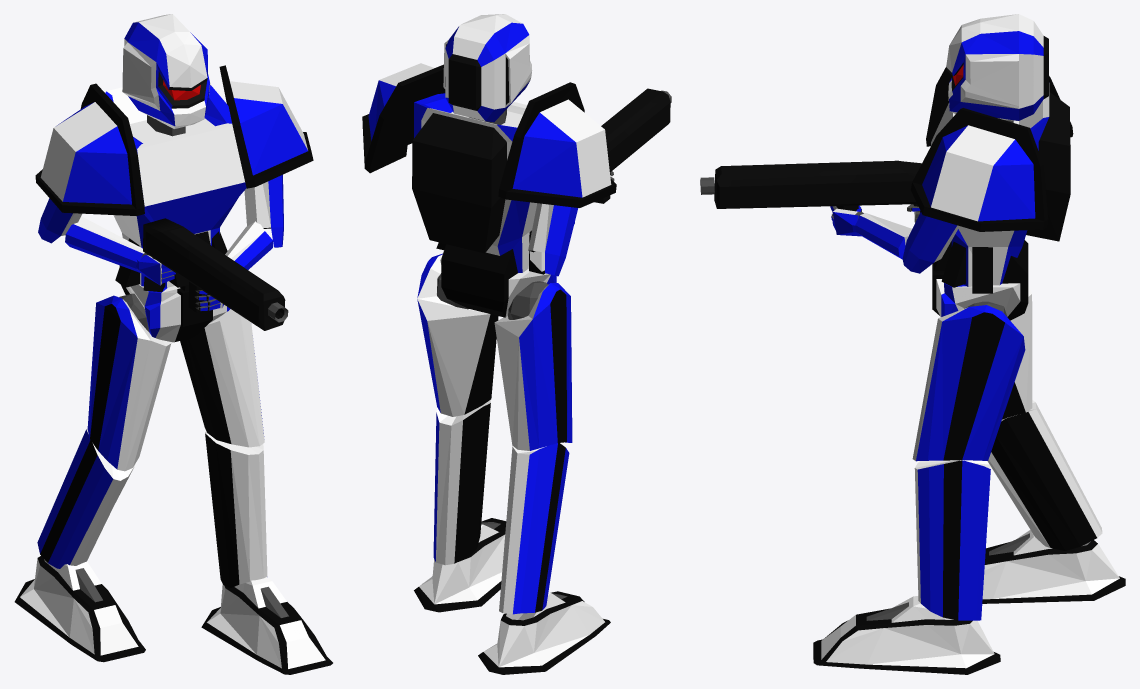
The model's file is robot_animation_000006.obj.
3 views of the same model, side by side, from view 1: azimuth 30°, elevation 25°; view 2: azimuth 150°, elevation 25°; view 3: azimuth 270°, elevation 25° (orthographic). The views are drawn at different scales.
Visible parts, largest first — view 1: Chest_plate_Cube.004, R_Thigh_Cube.005, Cube.002_Cube.059, R_Thigh.002_Cube.027, Head_base_Cube.022, R_Foot_Cube, R_Shin.002_Cube.029, R_Foot.002_Cube.035, Cube_Cube.001, R_Shin_Cube.007, Cube_Cube.021, Pelvis_Cube.006 (+5 smaller); view 2: Chest_plate_Cube.004, Cube.002_Cube.059, R_Thigh_Cube.005, R_Shin_Cube.007, R_Thigh.002_Cube.027, Head_base_Cube.022, R_Shin.002_Cube.029, R_Foot_Cube, Cube_Cube.021, Pelvis_Cube.006, R_Foot.002_Cube.035, Cube_Cube.001 (+2 smaller); view 3: Cube_Cube.021, R_Thigh.002_Cube.027, R_Shin.002_Cube.029, R_Foot.002_Cube.035, Head_base_Cube.022, R_Shin_Cube.007, Cube_Cube.001, Chest_plate_Cube.004, R_Foot_Cube, Pelvis_Cube.006, L_Arm_Cube.014, R_Thigh_Cube.005 (+3 smaller).
Part boxes in pixels (x1=…): Chest_plate_Cube.004: x1=105, y1=85, x2=246, y2=292; R_Thigh_Cube.005: x1=87, y1=295, x2=171, y2=471; Cube.002_Cube.059: x1=35, y1=83, x2=144, y2=215; R_Thigh.002_Cube.027: x1=180, y1=309, x2=264, y2=447; Head_base_Cube.022: x1=122, y1=14, x2=210, y2=128; R_Foot_Cube: x1=14, y1=556, x2=145, y2=662; R_Shin.002_Cube.029: x1=205, y1=432, x2=267, y2=587; R_Foot.002_Cube.035: x1=201, y1=577, x2=332, y2=674; Cube_Cube.001: x1=143, y1=218, x2=288, y2=330; R_Shin_Cube.007: x1=37, y1=428, x2=136, y2=568; Cube_Cube.021: x1=219, y1=65, x2=313, y2=188; Pelvis_Cube.006: x1=119, y1=265, x2=230, y2=342; Chest_plate_Cube.004: x1=412, y1=93, x2=545, y2=274; Cube.002_Cube.059: x1=498, y1=82, x2=616, y2=207; R_Thigh_Cube.005: x1=494, y1=283, x2=572, y2=450; R_Shin_Cube.007: x1=499, y1=443, x2=569, y2=614; R_Thigh.002_Cube.027: x1=417, y1=253, x2=498, y2=416; Head_base_Cube.022: x1=443, y1=14, x2=532, y2=122; R_Shin.002_Cube.029: x1=433, y1=400, x2=490, y2=565; R_Foot_Cube: x1=478, y1=591, x2=610, y2=674; Cube_Cube.021: x1=362, y1=63, x2=445, y2=173; Pelvis_Cube.006: x1=440, y1=244, x2=556, y2=317; R_Foot.002_Cube.035: x1=414, y1=518, x2=506, y2=612; Cube_Cube.001: x1=594, y1=88, x2=671, y2=203; Cube_Cube.021: x1=911, y1=108, x2=1048, y2=231; R_Thigh.002_Cube.027: x1=912, y1=305, x2=1025, y2=461; R_Shin.002_Cube.029: x1=914, y1=460, x2=990, y2=620; R_Foot.002_Cube.035: x1=813, y1=596, x2=1000, y2=674; Head_base_Cube.022: x1=946, y1=14, x2=1048, y2=120; R_Shin_Cube.007: x1=987, y1=400, x2=1102, y2=550; Cube_Cube.001: x1=700, y1=160, x2=921, y2=212; Chest_plate_Cube.004: x1=931, y1=82, x2=1070, y2=293; R_Foot_Cube: x1=982, y1=530, x2=1125, y2=603; Pelvis_Cube.006: x1=932, y1=240, x2=1028, y2=320; L_Arm_Cube.014: x1=902, y1=212, x2=959, y2=273; R_Thigh_Cube.005: x1=1002, y1=284, x2=1032, y2=419.
Bounding box in the file's own units: 1.32 × 3.03 × 1.92.
